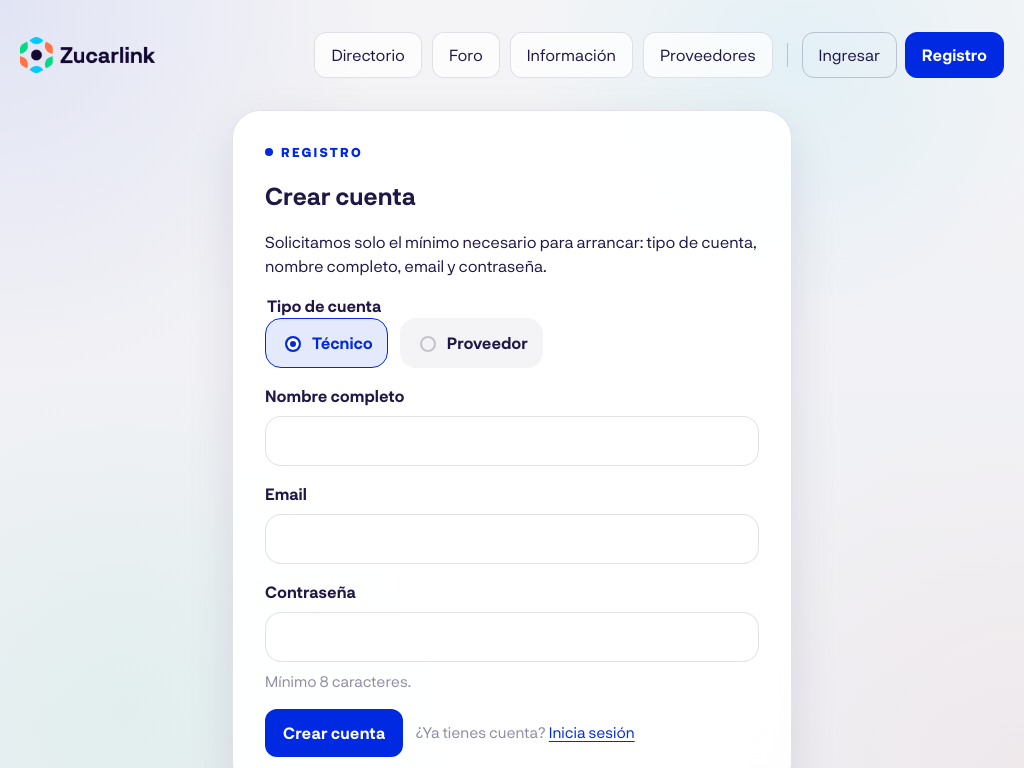
Test: redeems a referral code from the URL right after signup, without blocking or erroring
Check: the heading "Crear cuenta" is shown, box [265,181,416,210]
In the field labelled "Nombre completo": (512, 441) [265,416,759,466], type "Referred Tech"
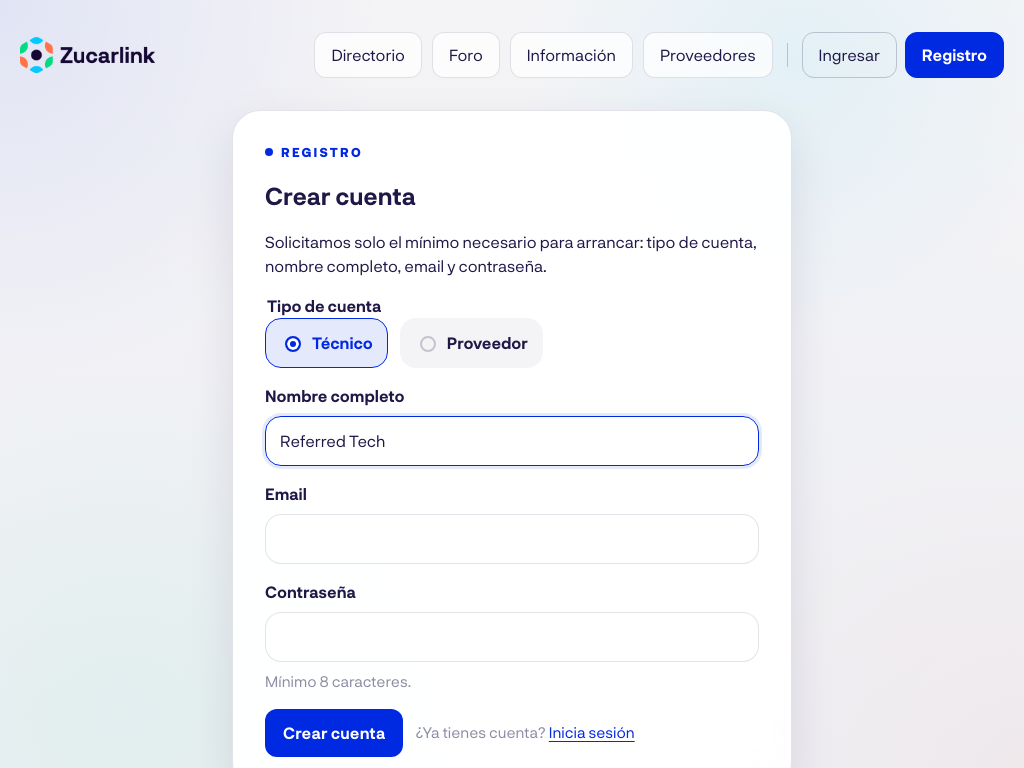
In the field labelled "Email": (512, 539) [265,514,759,564], type "referred@example.com"
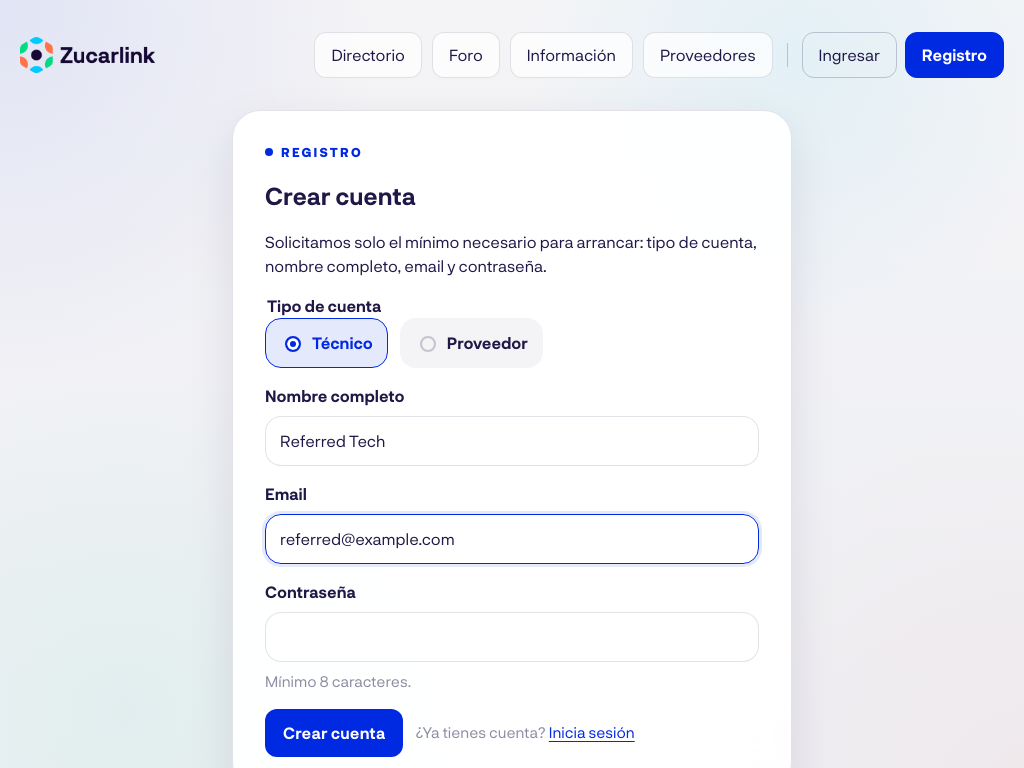
In the password field labelled "Contraseña": (512, 637) [265,612,759,662], type "Semana4Test123"
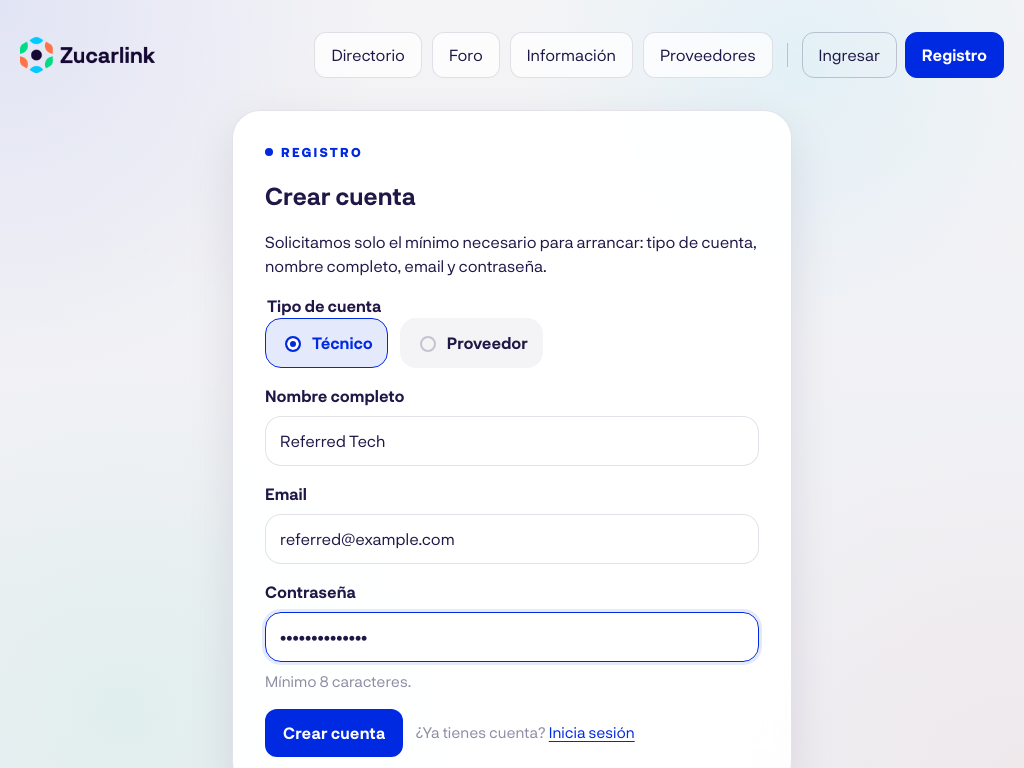
Click the button "Crear cuenta": (334, 732) [265,708,403,756]
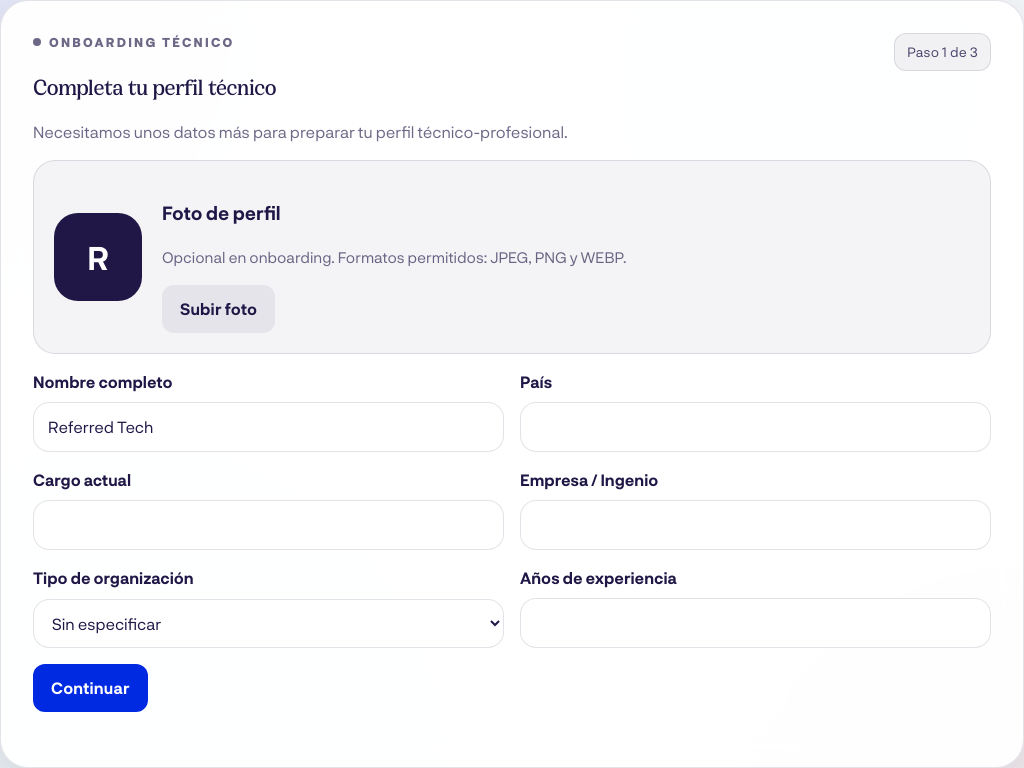
Check: the heading "Completa tu perfil técnico" is shown, box [33,71,276,100]
